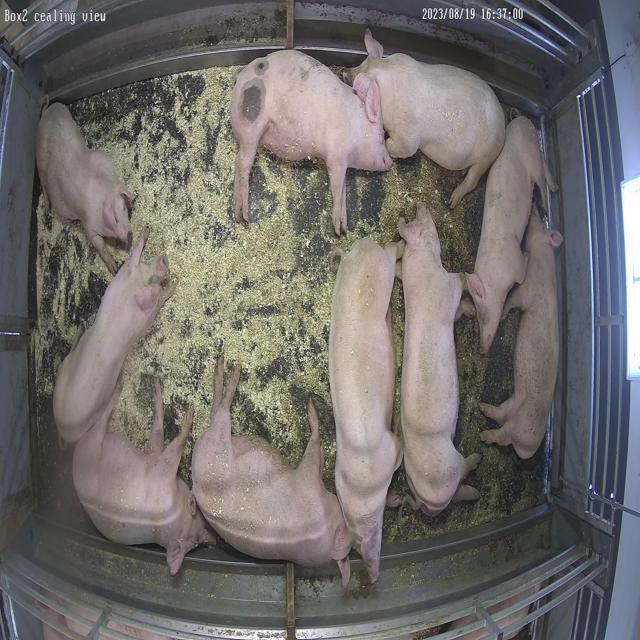Dirt: (385, 311, 545, 556), (326, 153, 486, 274), (391, 279, 405, 424)
Pig: (192, 359, 352, 588), (231, 50, 393, 234), (346, 29, 506, 206), (72, 382, 216, 576), (329, 238, 405, 584), (53, 229, 174, 444), (399, 202, 481, 516), (468, 116, 556, 354), (481, 208, 564, 460), (36, 103, 132, 274)
